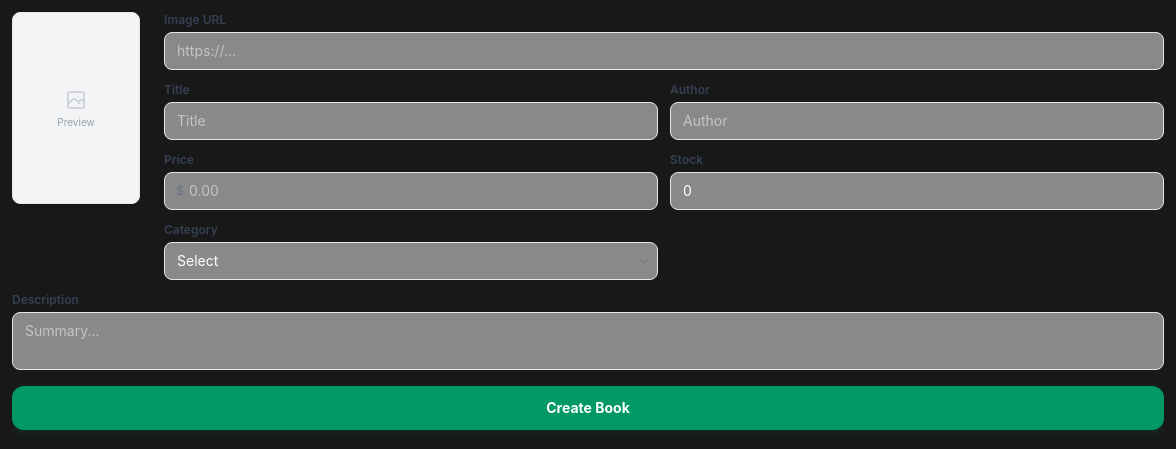
Scenario: BookForm.vue › resets form fields after successful submission
The image size is (1176, 449).
Type "https://example.com/cover.jpg" into the field with placeholder "https://...". click: (664,51)
box: [164, 32, 1164, 70]
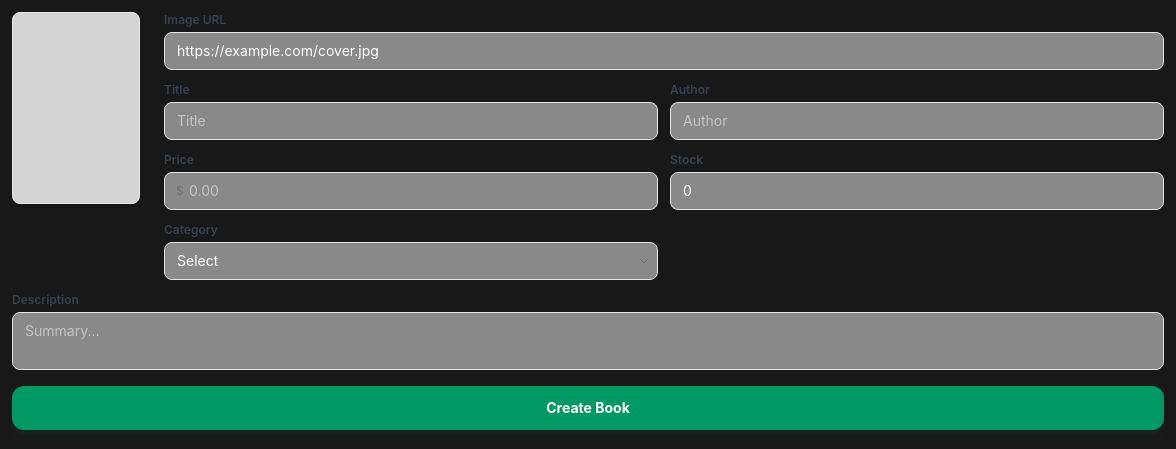
Type "Test Book" into the field with placeholder "Title". click: (411,121)
box: [164, 102, 658, 140]
Type "Test Author" into the field with placeholder "Author". click: (917,121)
box: [670, 102, 1164, 140]
Type "29.99" into the field with placeholder "0.00". click: (411,191)
box: [164, 172, 658, 210]
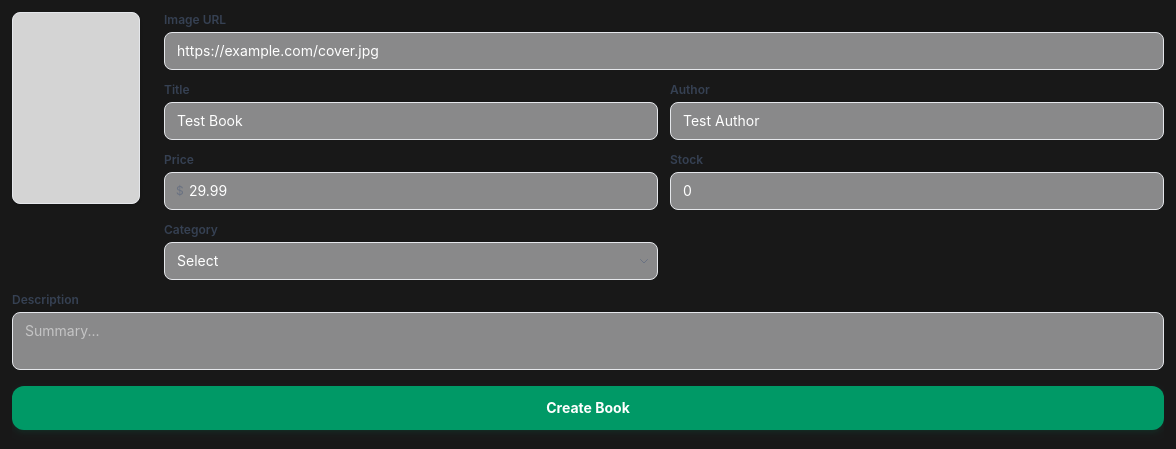
Type "10" into the number field. click: (917,191)
box: [670, 172, 1164, 210]
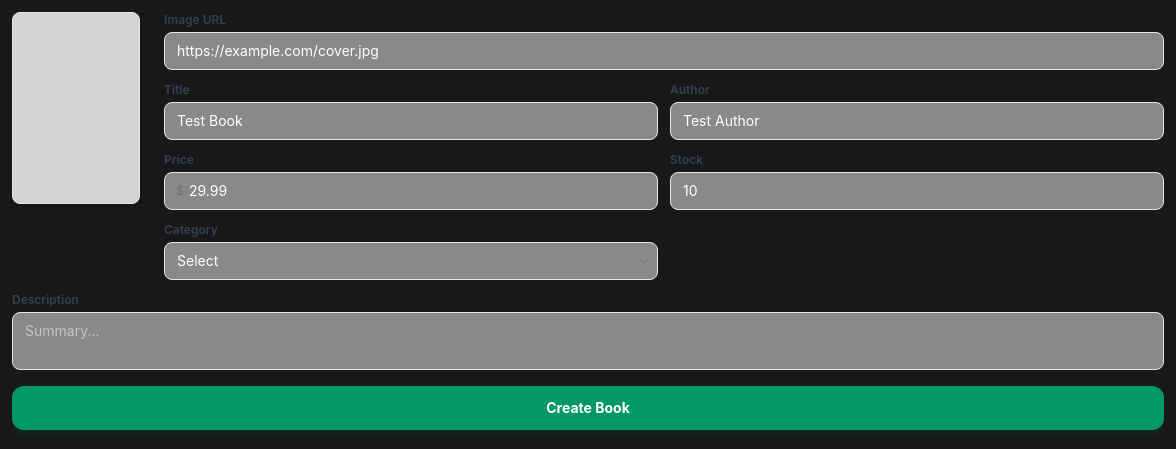
Select "Fiction" in the dropdown. click: (411,261)
box: [164, 242, 658, 280]
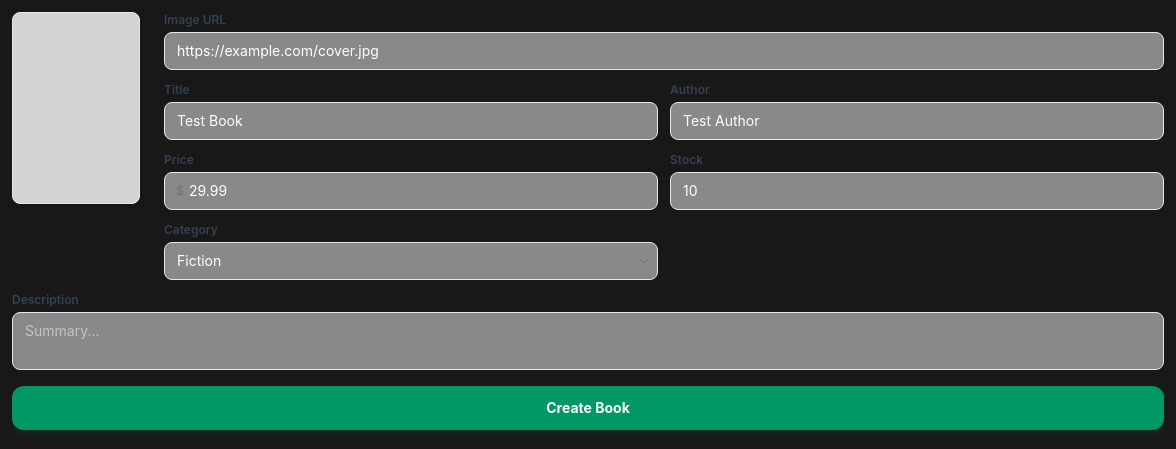
Type "Test description" into the text box with placeholder "Summary...". click: (588,341)
box: [12, 312, 1164, 370]
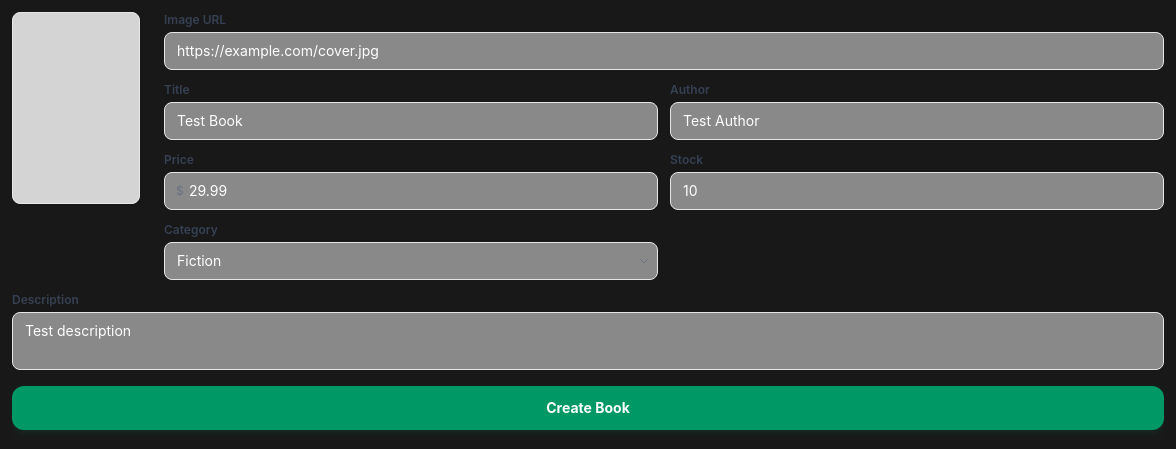
Submit the form
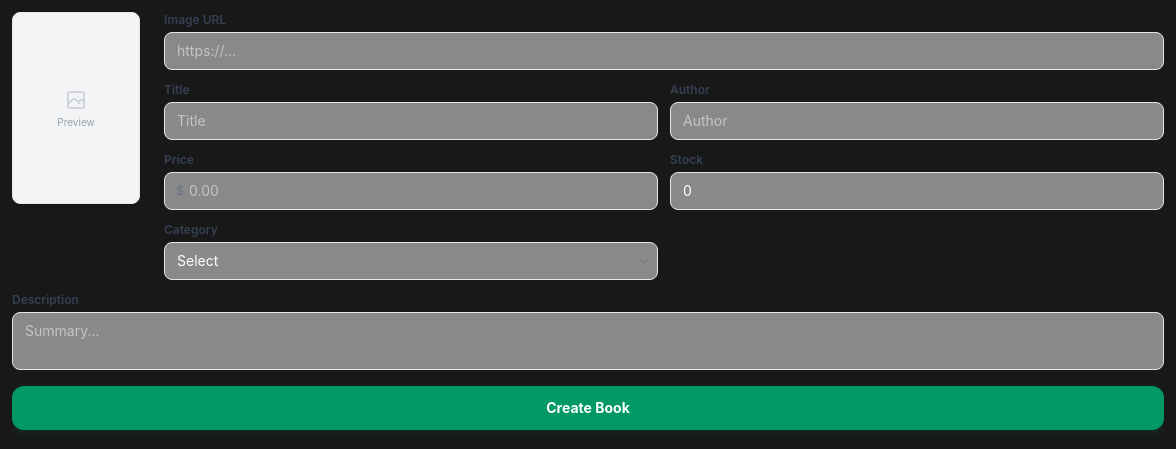
Check: the field with placeholder "Title" is empty, box [164, 102, 658, 140]
Check: the number field holds "0", box [670, 172, 1164, 210]
